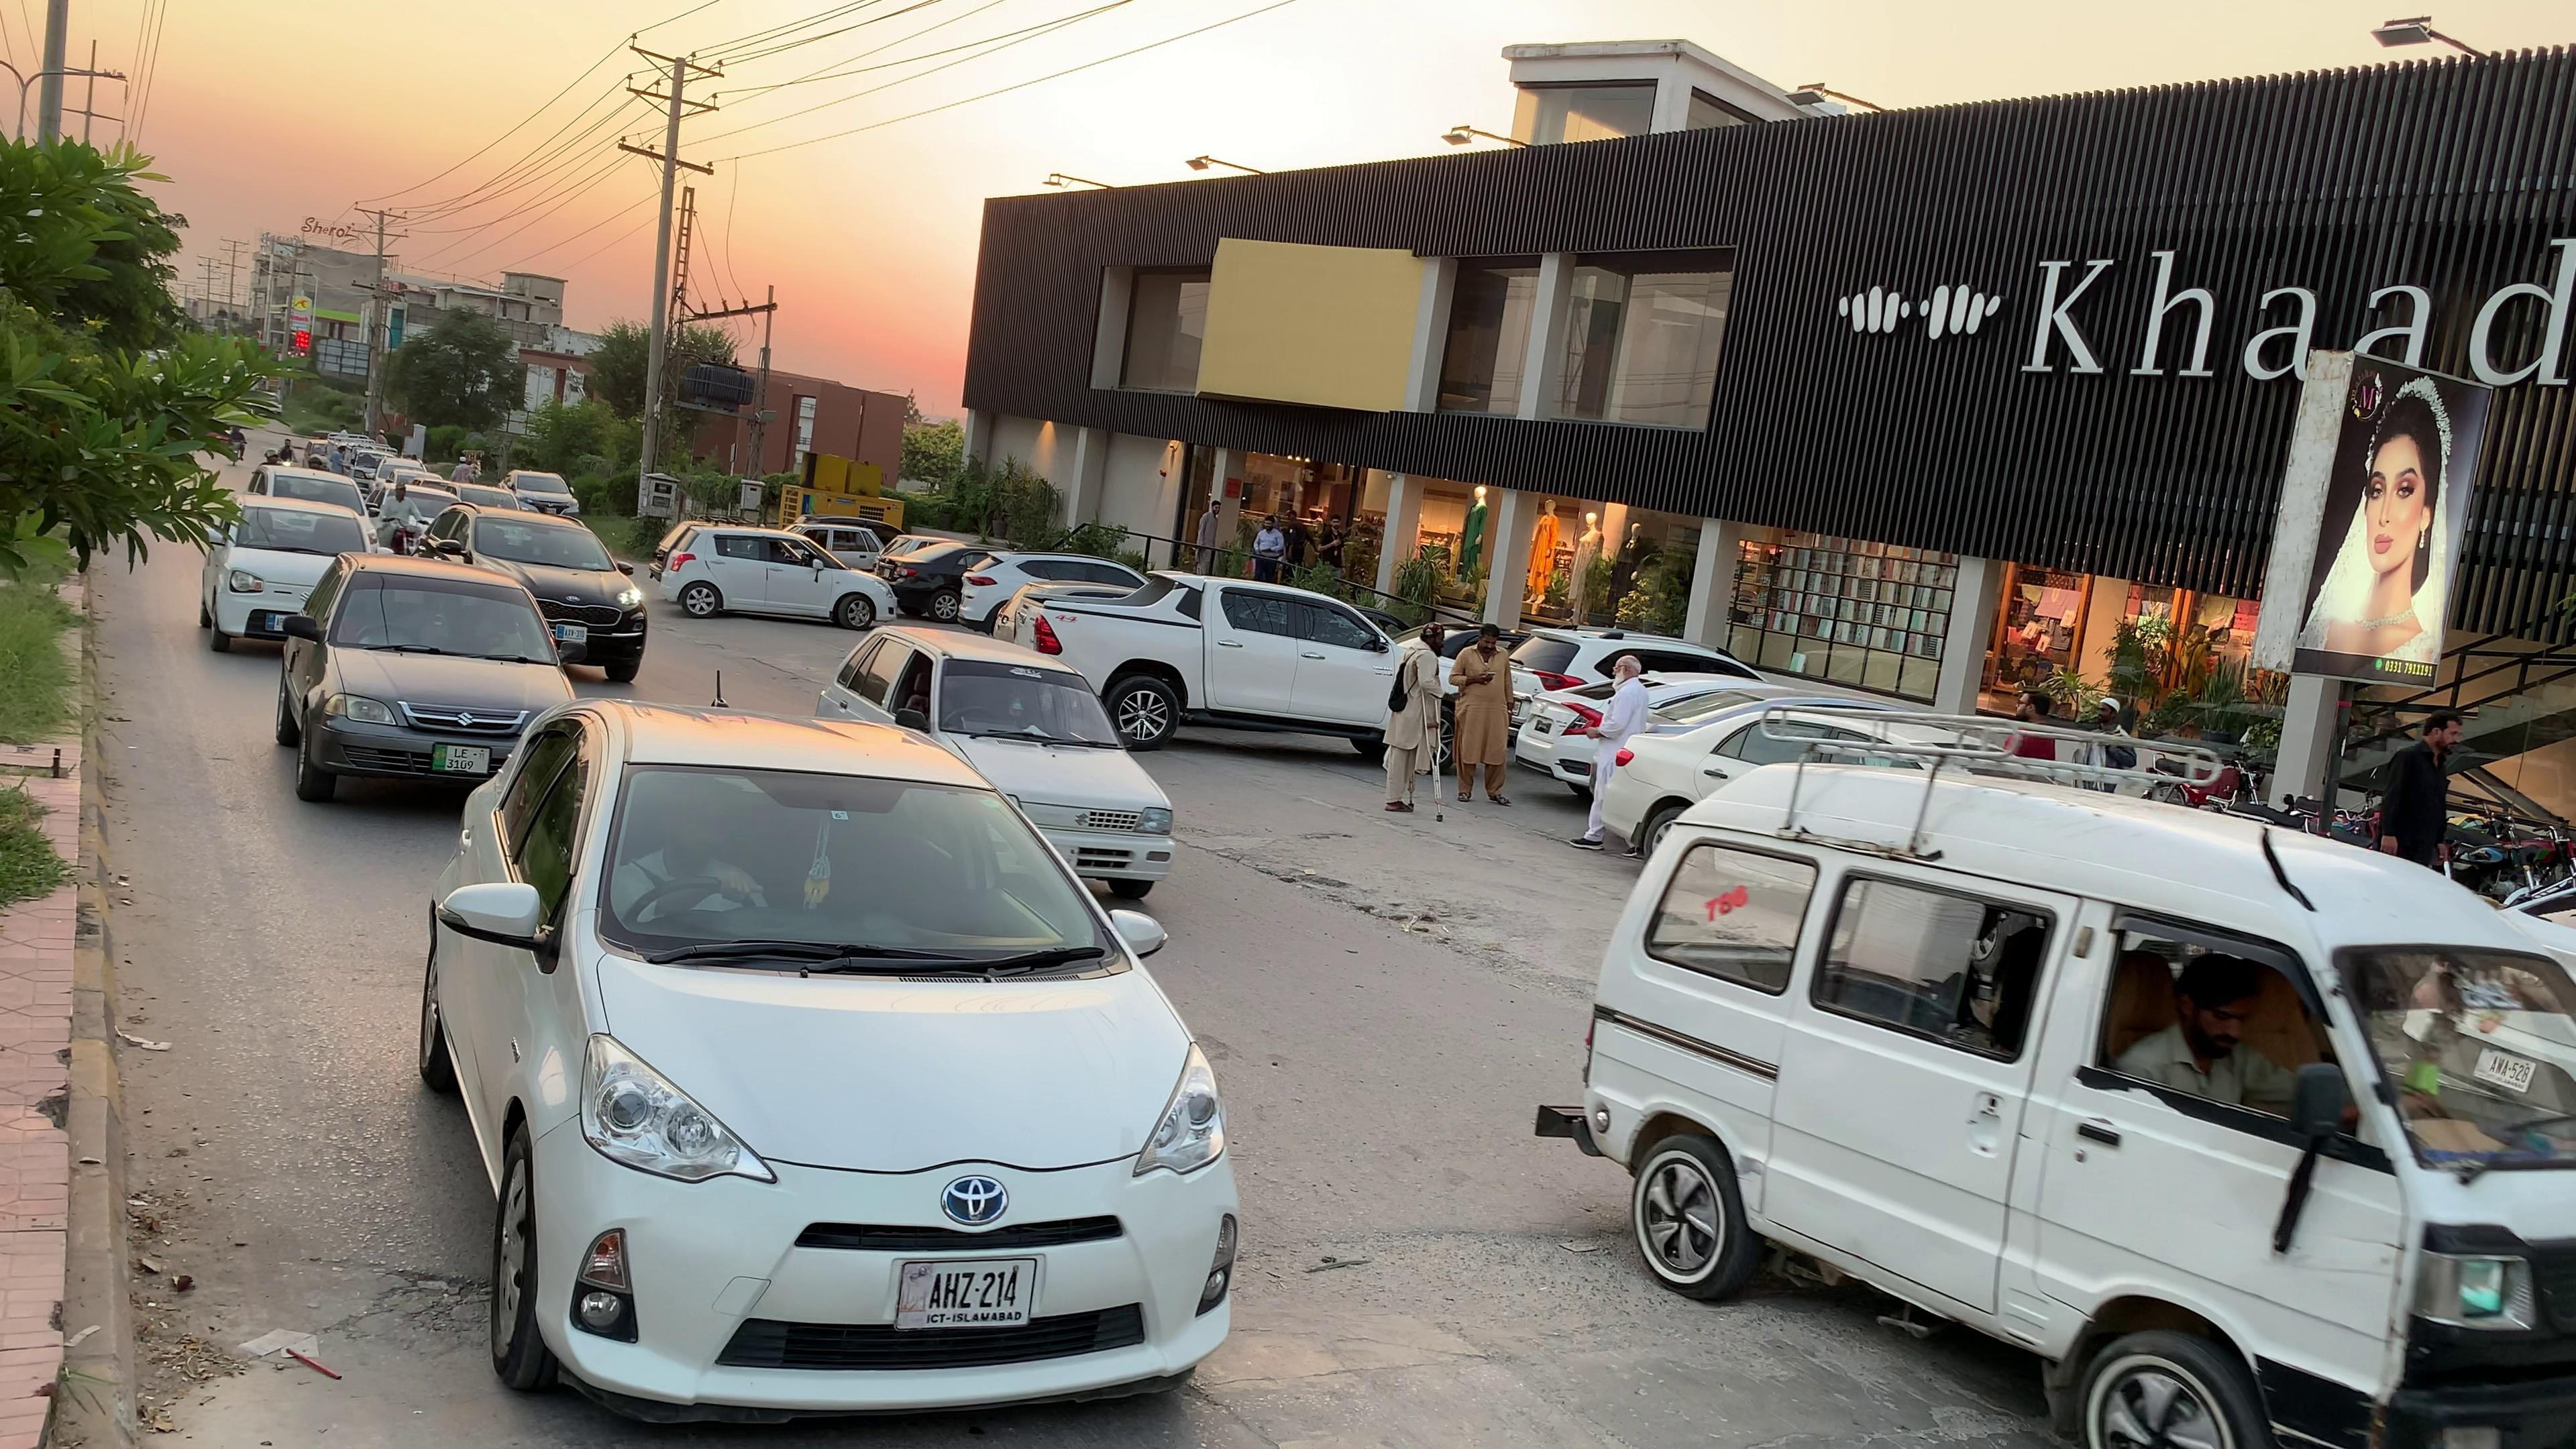windshield: (614, 757, 1155, 1030)
